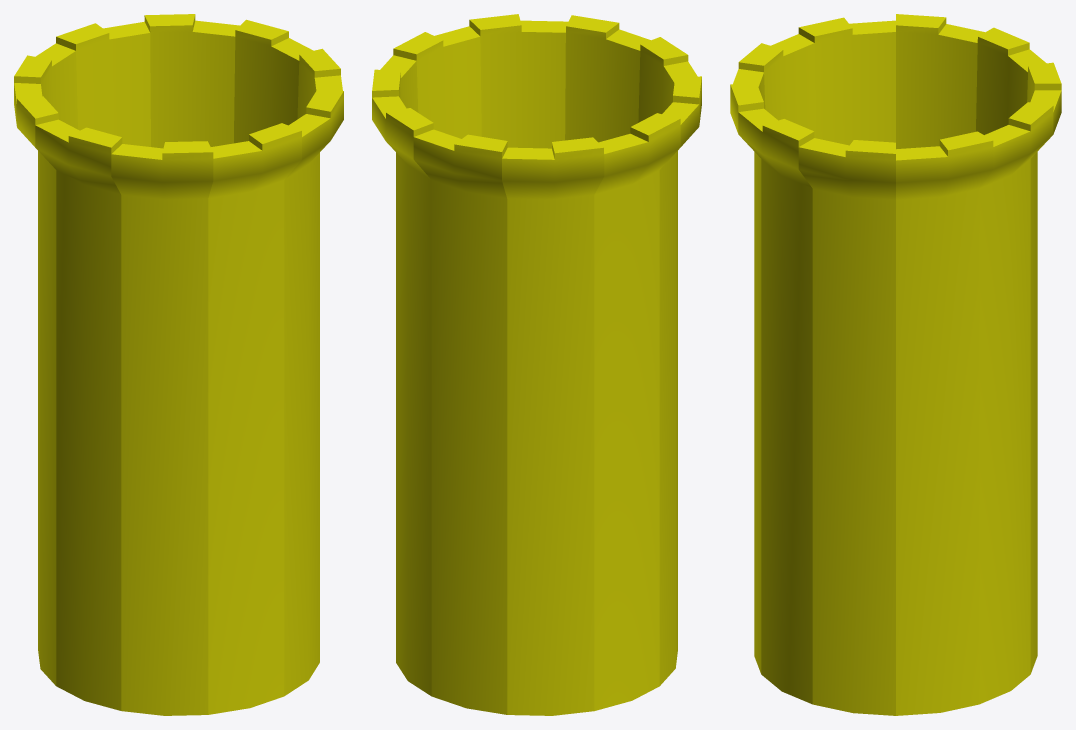
The model's file is Background_Tower_01A.fbx.
The picture shows the model from 3 angles, left to right: view 1: azimuth 30°, elevation 25°; view 2: azimuth 150°, elevation 25°; view 3: azimuth 270°, elevation 25°; orthographic projection.
Parts seen in each view (by area): view 1: Background_Tower_01A; view 2: Background_Tower_01A; view 3: Background_Tower_01A.
Part boxes in pixels (box(x1,y1,x2,y2)): Background_Tower_01A: box(14, 14, 343, 715); Background_Tower_01A: box(372, 14, 701, 715); Background_Tower_01A: box(730, 14, 1061, 715).
Bounding box in the file's own units: 2435 × 4640 × 2435.
